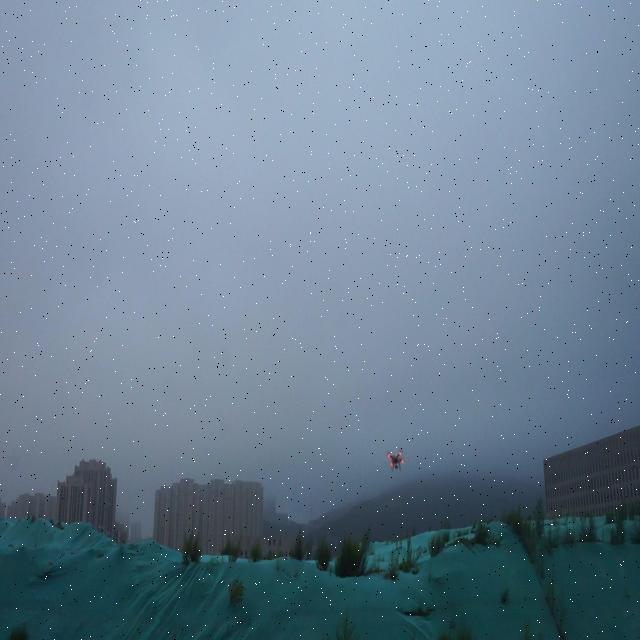UAV: (387, 450, 405, 472)
